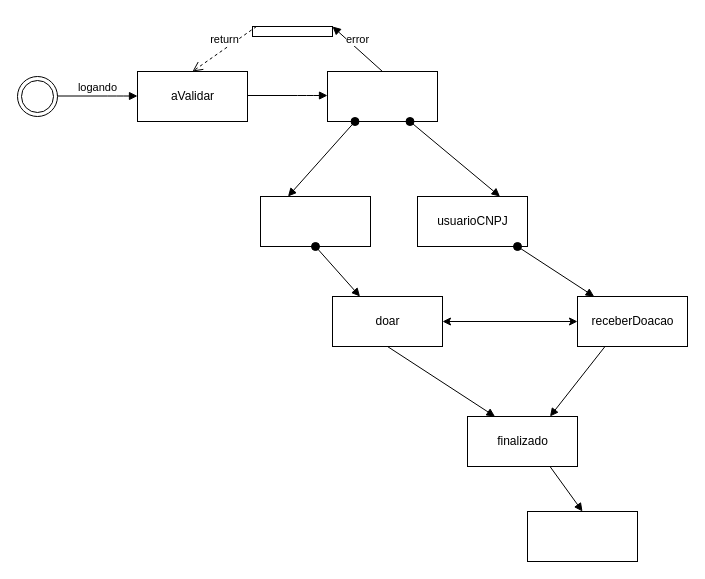
Image size: 705x579. Some labels were removed from this diagram. Each missing label, with the centre of its shape:
"gerarRelatorio" belongs at point (582, 536).
"usuarioCPF" belongs at point (315, 221).
"validado" belongs at point (382, 96).
